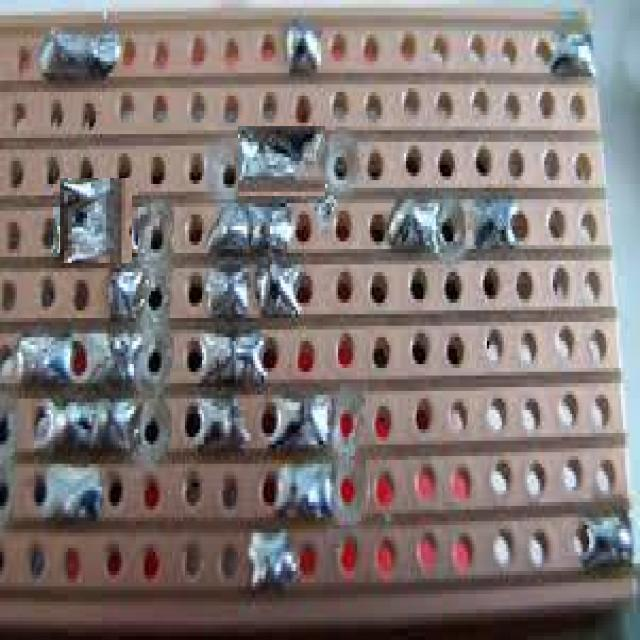Short_circuit: (56, 181, 135, 260), (238, 126, 325, 196), (38, 19, 117, 77)
